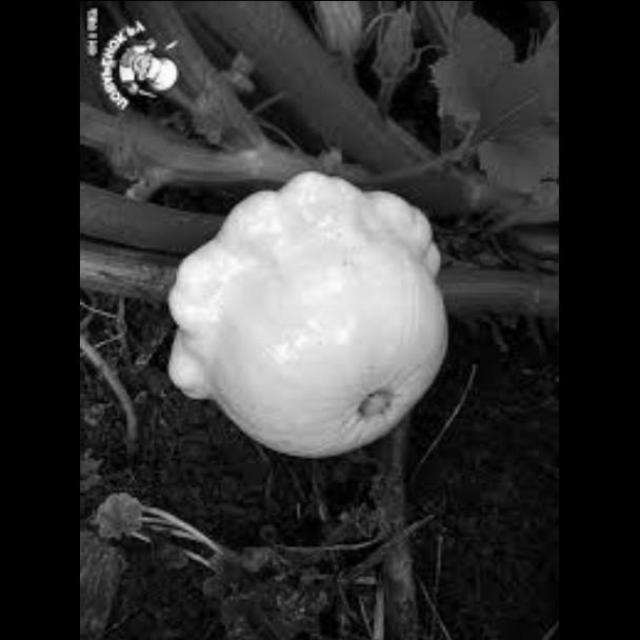bi dao: (170, 152, 453, 459)
